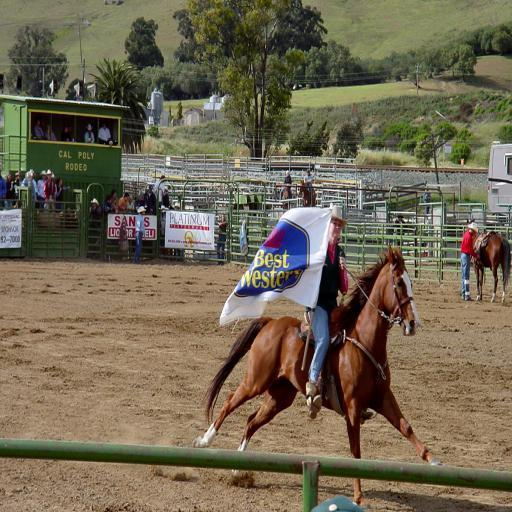horse: (192, 244, 442, 510), (466, 214, 511, 306)
